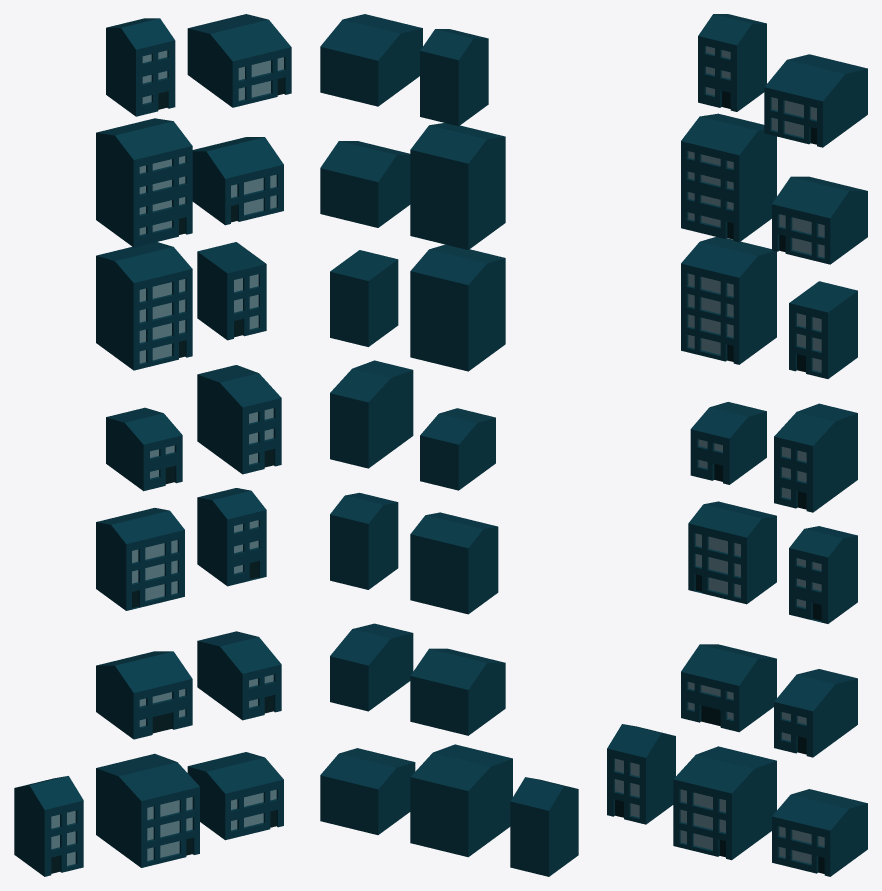
Rendered from mevcut.gltf.
3 renders of one model, left to right at view 1: azimuth 30°, elevation 25°; view 2: azimuth 150°, elevation 25°; view 3: azimuth 330°, elevation 25°, orthographic.
Visible parts, largest first — view 1: Building_071.003, Building_072.003, Building_076.003, Building_080.003, Building_077.003, Building_074.003, Building_075.003, Building_078.003, Building_083.003, Building_082.003, Building_070.003, Building_081.003 (+12 smaller); view 2: Building_071.003, Building_072.003, Building_076.003, Building_074.003, Building_077.003, Building_080.003, Building_075.003, Building_078.003, Building_083.003, Building_069.003, Building_070.003, Building_081.003 (+3 smaller); view 3: Building_071.003, Building_072.003, Building_076.003, Building_080.003, Building_077.003, Building_074.003, Building_075.003, Building_083.003, Building_078.003, Building_082.003, Building_070.003, Building_081.003 (+12 smaller).
Part boxes in pixels (box(x1,y1,x2,y2)): Building_071.003: box(96, 118, 192, 247); Building_072.003: box(96, 242, 192, 370); Building_076.003: box(96, 753, 199, 867); Building_080.003: box(197, 365, 281, 474); Building_077.003: box(187, 14, 291, 107); Building_074.003: box(96, 508, 184, 610); Building_075.003: box(96, 651, 192, 739); Building_078.003: box(192, 137, 283, 225); Building_083.003: box(187, 752, 283, 840); Building_082.003: box(197, 631, 281, 720); Building_070.003: box(106, 18, 175, 116); Building_081.003: box(197, 488, 266, 586); Building_071.003: box(410, 123, 505, 249); Building_072.003: box(410, 244, 505, 371); Building_076.003: box(410, 744, 512, 857); Building_074.003: box(410, 512, 498, 614); Building_077.003: box(320, 14, 422, 106); Building_080.003: box(330, 360, 413, 468); Building_075.003: box(410, 648, 505, 735); Building_078.003: box(320, 141, 410, 227); Building_083.003: box(320, 748, 415, 834); Building_069.003: box(510, 777, 578, 876); Building_070.003: box(420, 29, 488, 126); Building_081.003: box(330, 492, 398, 589); Building_071.003: box(681, 113, 776, 242); Building_072.003: box(681, 237, 776, 364); Building_076.003: box(673, 746, 776, 860); Building_080.003: box(774, 403, 857, 512); Building_077.003: box(764, 54, 867, 147); Building_074.003: box(688, 501, 776, 604); Building_075.003: box(681, 644, 776, 732); Building_083.003: box(772, 789, 867, 876); Building_078.003: box(772, 176, 867, 264); Building_082.003: box(774, 669, 857, 757); Building_070.003: box(698, 14, 766, 111); Building_081.003: box(789, 526, 857, 623).
Size of the model in its own units: 0.1929 by 0.6489 by 0.0652.
